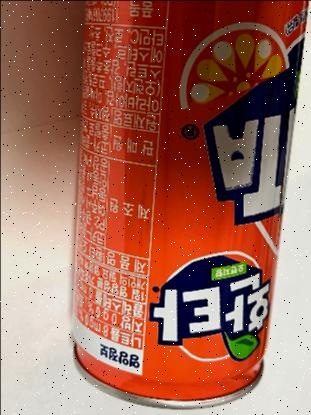Can: (65, 0, 311, 414)
